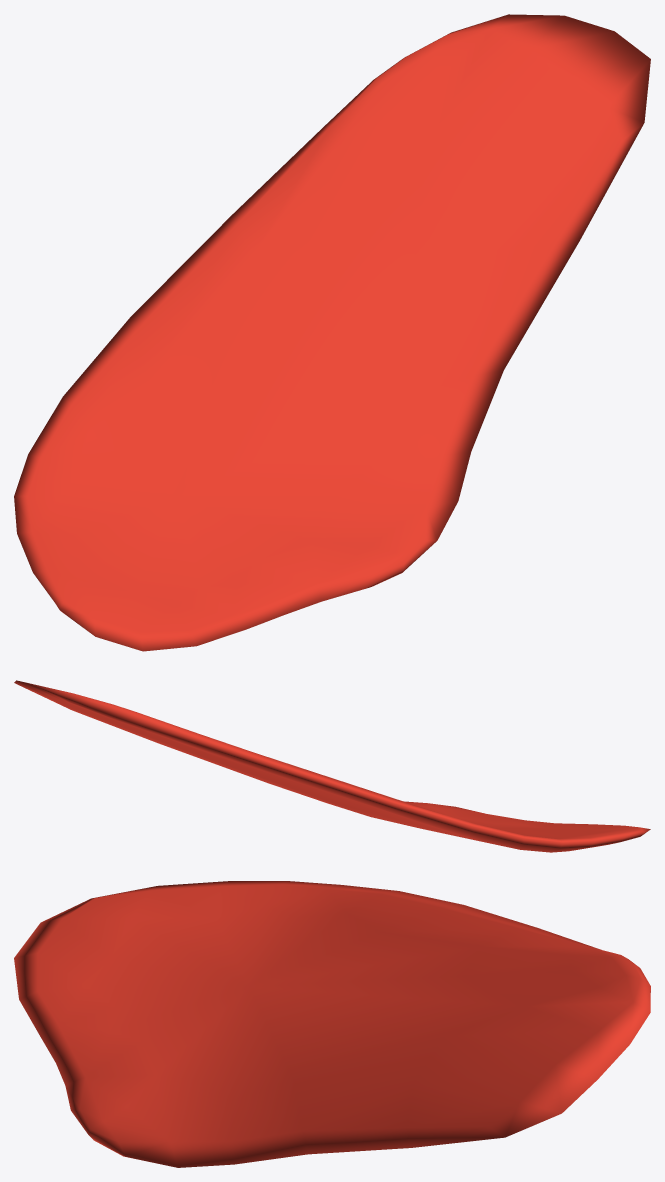
The model's file is Rectus_posterior_minor_capitis_muscle-Occipital_insertion.r_Gen.glb.
The picture shows the model from 3 angles, top to bottom: view 1: azimuth 30°, elevation 25°; view 2: azimuth 150°, elevation 25°; view 3: azimuth 270°, elevation 25°; orthographic projection. The views are drawn at different scales.
Visible parts, largest first — view 1: Rectus_posterior_minor_capitis_muscle-Occipital_insertion.r_; view 2: Rectus_posterior_minor_capitis_muscle-Occipital_insertion.r_; view 3: Rectus_posterior_minor_capitis_muscle-Occipital_insertion.r_.
Boxes of the visible parts, x1,y1,x2,y2 form: Rectus_posterior_minor_capitis_muscle-Occipital_insertion.r_: (14, 14, 650, 651); Rectus_posterior_minor_capitis_muscle-Occipital_insertion.r_: (14, 680, 650, 852); Rectus_posterior_minor_capitis_muscle-Occipital_insertion.r_: (14, 881, 650, 1167).
Bounding box in the file's own units: 0.0201 × 0.00694 × 0.0124.
